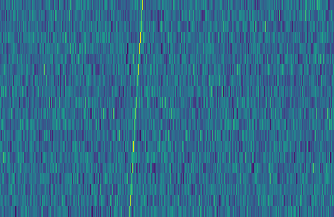signal: (213, 0, 257, 217)
